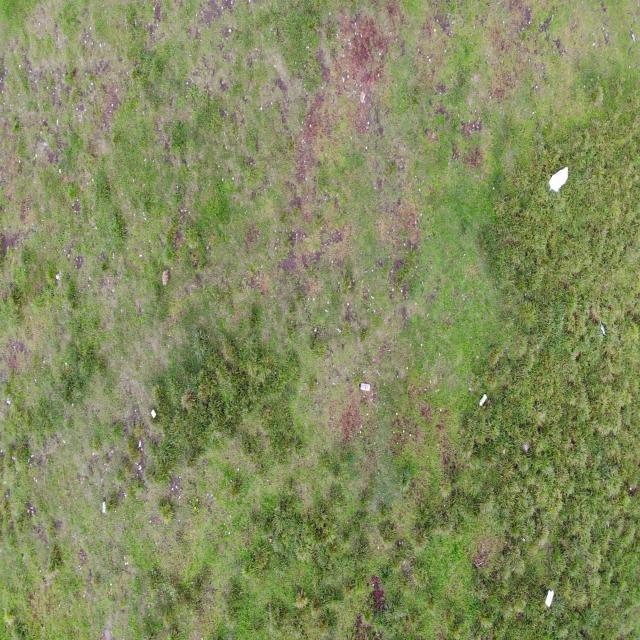rubbish: (547, 164, 569, 194), (544, 590, 554, 609), (478, 392, 489, 409), (102, 486, 108, 516), (359, 381, 372, 393), (601, 320, 608, 339), (150, 408, 156, 419)
